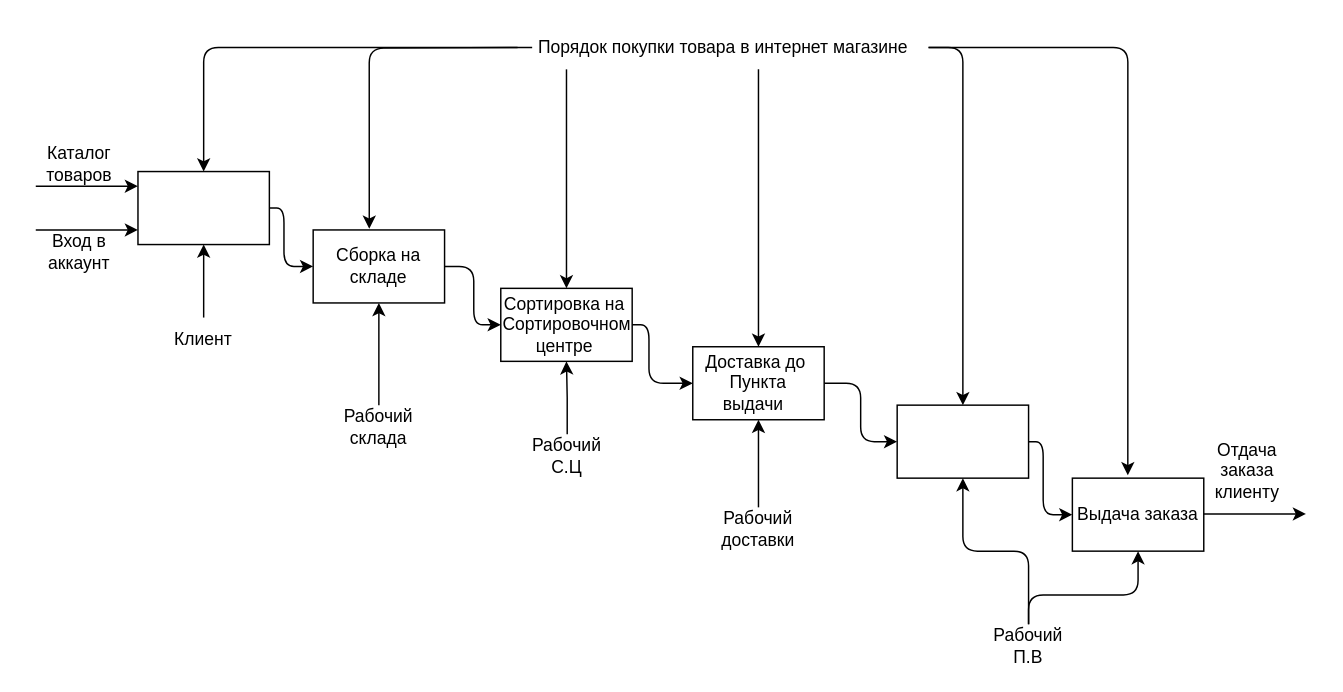
This 1343x692 diagram has some shape labels left out. Here are the shapes that lost their labels. From the top down, the box of each, then its label:
(137, 170, 269, 245): Оформление заказа
(896, 404, 1029, 478): Сортировка на Пункте выдачи
